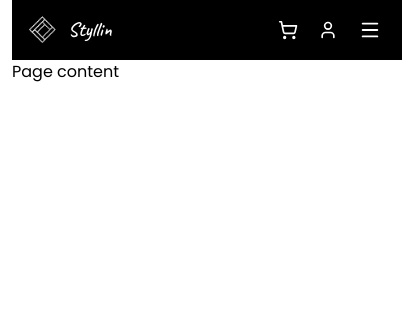
Test: opens mobile navigation and closes it after selecting a destination
Click the button named "open navigation menu" at (370, 30), box [350,10,390,50]
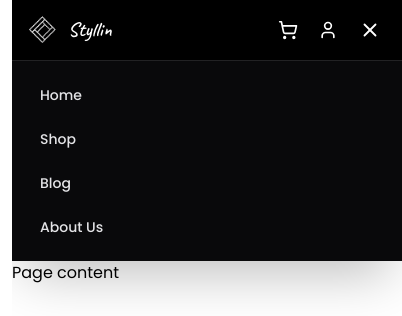
Click the link "Shop" at (58, 139), box [40,129,76,149]
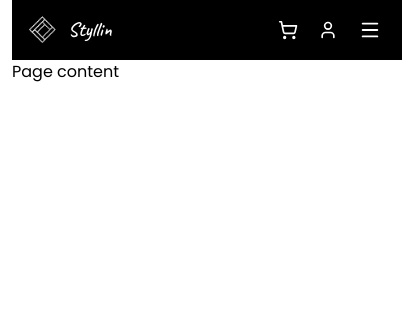
Expected: the navigation bar "mobile navigation" is gone
